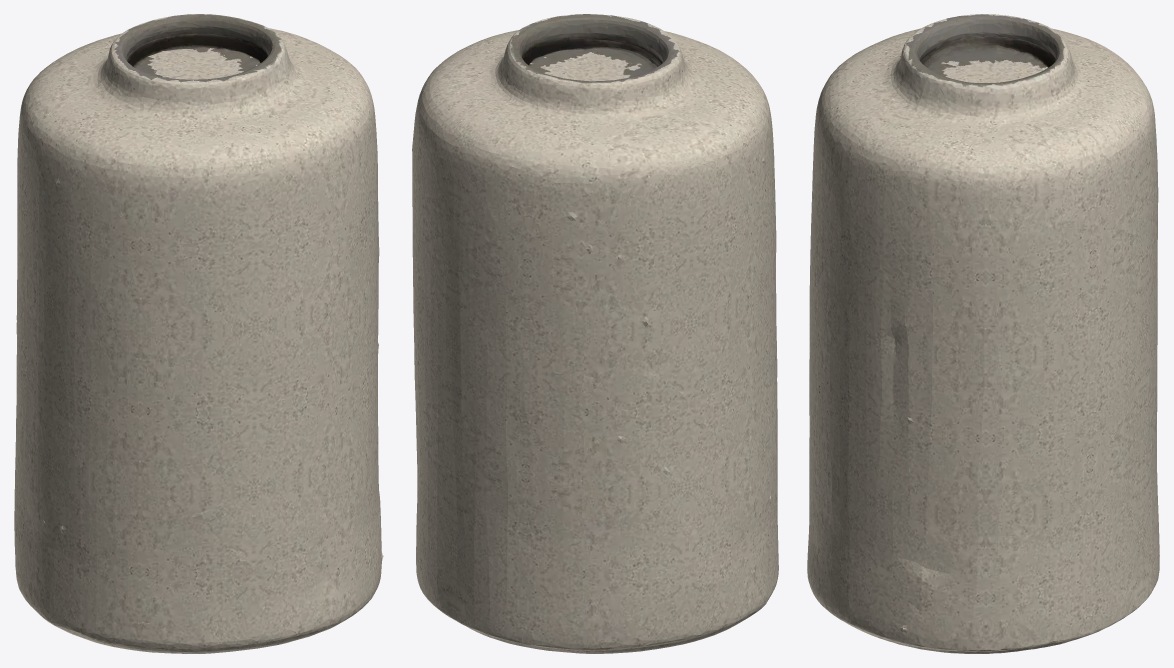
File: vase.glb
The picture shows the model from 3 angles, left to right: view 1: azimuth 30°, elevation 25°; view 2: azimuth 150°, elevation 25°; view 3: azimuth 270°, elevation 25°; orthographic projection.
Parts seen in each view (by area): view 1: geometry_0; view 2: geometry_0; view 3: geometry_0.
Boxes of the visible parts, box(x1,y1,x2,y2) form: geometry_0: box(14, 14, 383, 653); geometry_0: box(412, 14, 778, 653); geometry_0: box(807, 14, 1159, 653).
Bounding box in the file's own units: 0.125 × 0.2 × 0.12.
1 material, 1 textured.
